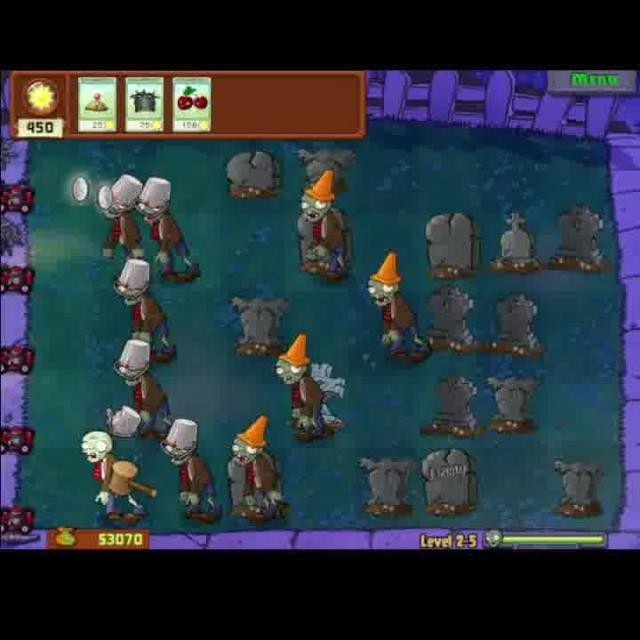coins: (68, 168, 92, 208), (96, 179, 115, 216)
zombies: (359, 249, 431, 367), (221, 412, 291, 527), (290, 166, 356, 284), (142, 172, 204, 288), (269, 330, 328, 446), (159, 409, 219, 523), (110, 252, 173, 360), (76, 428, 137, 528), (111, 334, 166, 444), (92, 169, 142, 279)
